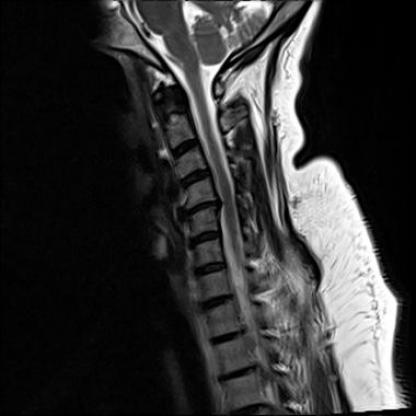Disc Bulgerotation: (177, 169, 213, 187), (182, 200, 222, 215), (169, 140, 200, 157)
Disc Protrusionrotation: (182, 200, 222, 215)
